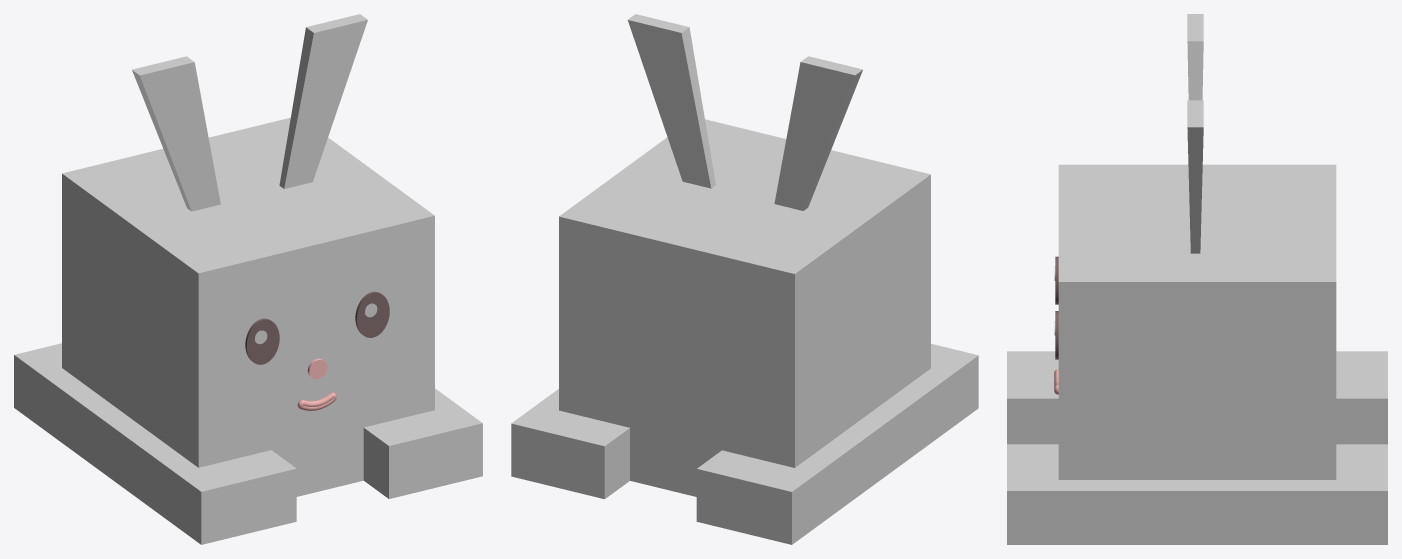
File: rabbit-with-wise-eyes.glb
3 renders of one model, left to right at view 1: azimuth 30°, elevation 25°; view 2: azimuth 150°, elevation 25°; view 3: azimuth 270°, elevation 25°, orthographic.
Parts seen in each view (by area): view 1: body, ear, 圆柱_2; view 2: body, ear; view 3: body, ear.
Boxes of the visible parts, x1,y1,x2,y2 form: body: (14,117,482,544); ear: (132,14,367,211); 圆柱_2: (245,291,389,364); body: (511,119,978,544); ear: (627,14,862,210); body: (1007,164,1387,544); ear: (1187,14,1203,253).
Bounding box in the file's own units: 0.476 × 0.643 × 0.5484.
